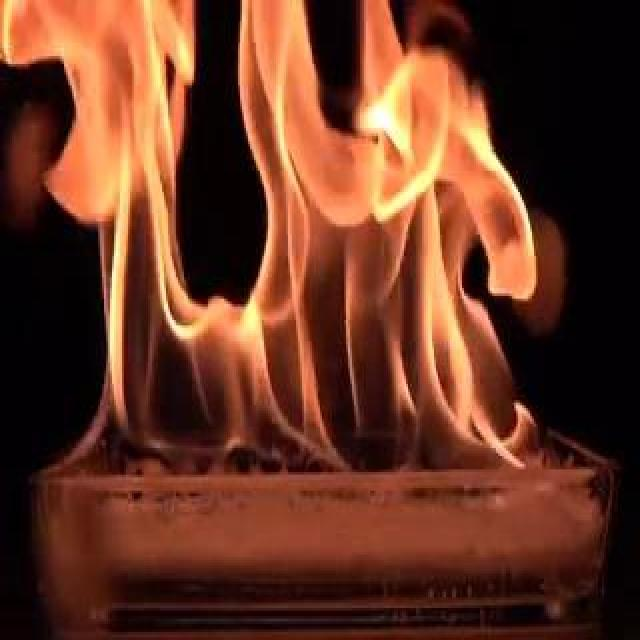Fire: (63, 2, 543, 482)
